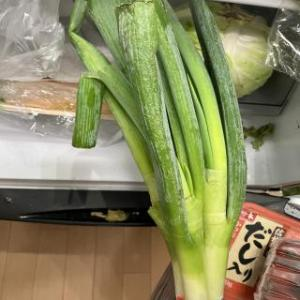cabbage: (168, 3, 276, 100)
onion: (67, 0, 248, 300)
